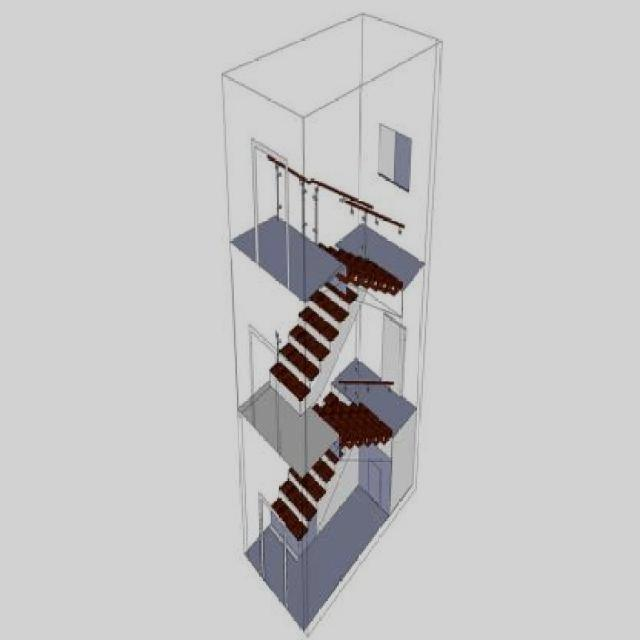stair: (252, 220, 380, 417)
